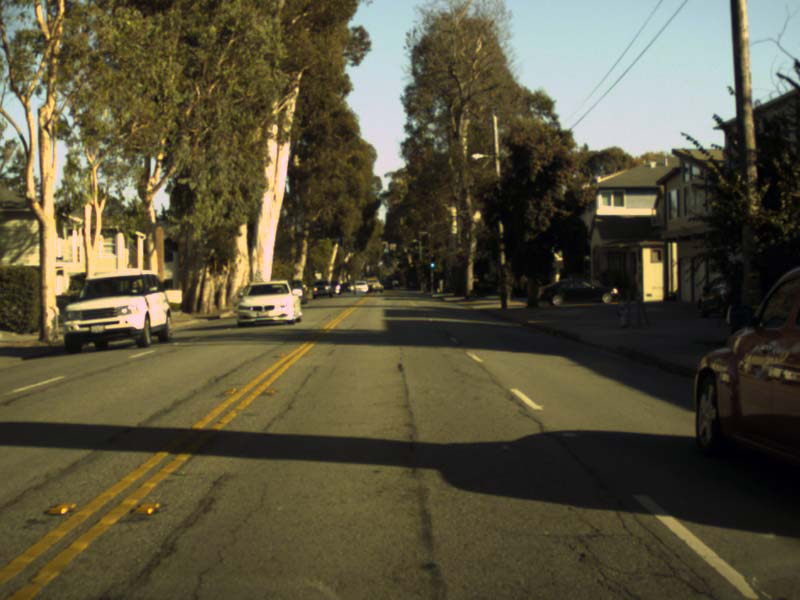Green: (430, 256, 435, 267), (382, 245, 386, 252)
